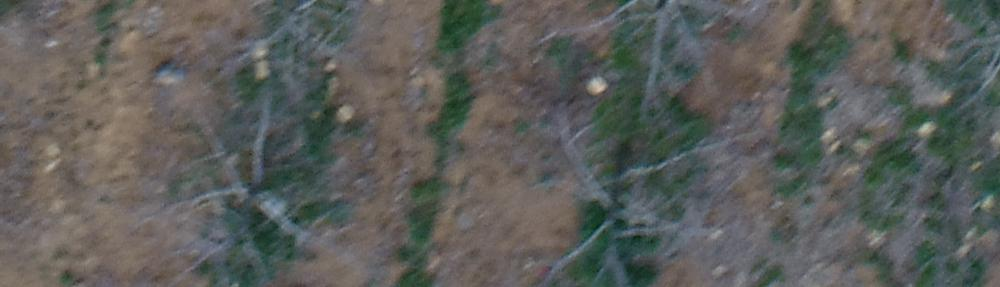apple: (493, 98, 762, 277), (164, 93, 404, 257)
